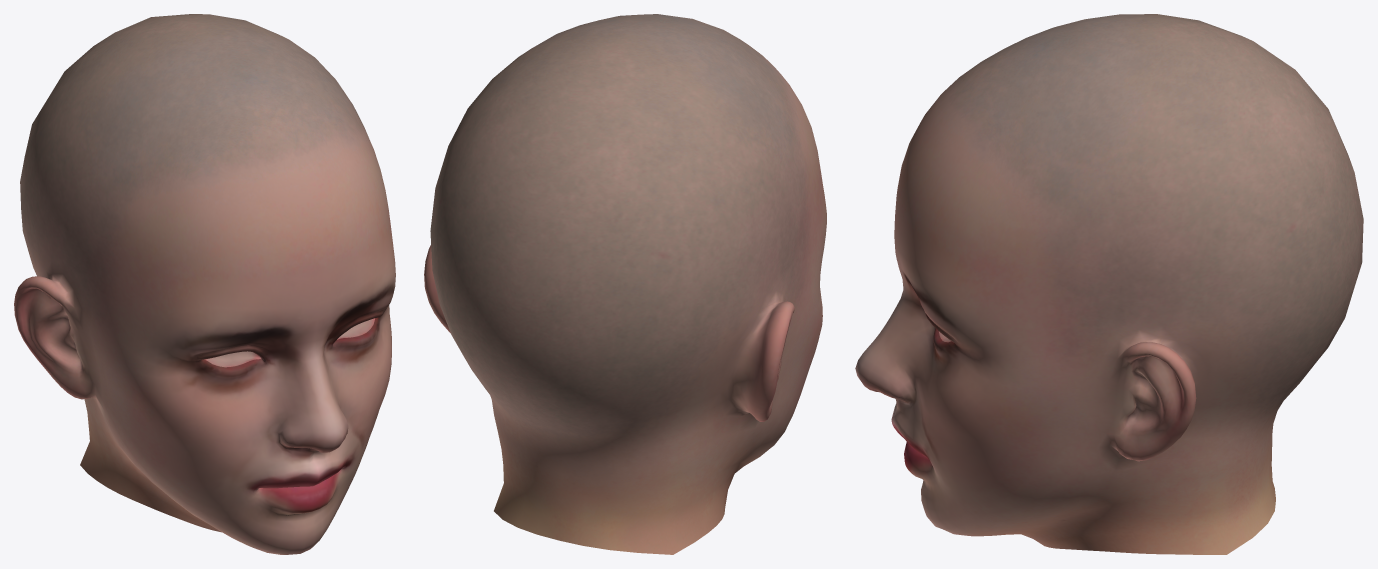
File: source.obj
3 renders of one model, left to right at view 1: azimuth 30°, elevation 25°; view 2: azimuth 150°, elevation 25°; view 3: azimuth 270°, elevation 25°, orthographic. The views are drawn at different scales.
Parts seen in each view (by area): view 1: Face; view 2: Face; view 3: Face.
Boxes of the visible parts, x1,y1,x2,y2 form: Face: (14,14,395,554); Face: (424,14,826,554); Face: (855,14,1363,554).
Bounding box in the file's own units: 0.179 × 0.2345 × 0.2139.
